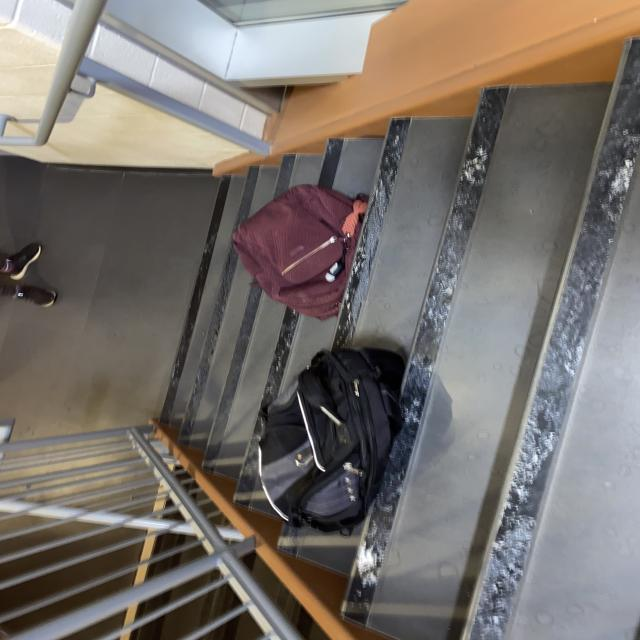Backpacks: (254, 345, 402, 528), (230, 183, 366, 320)
